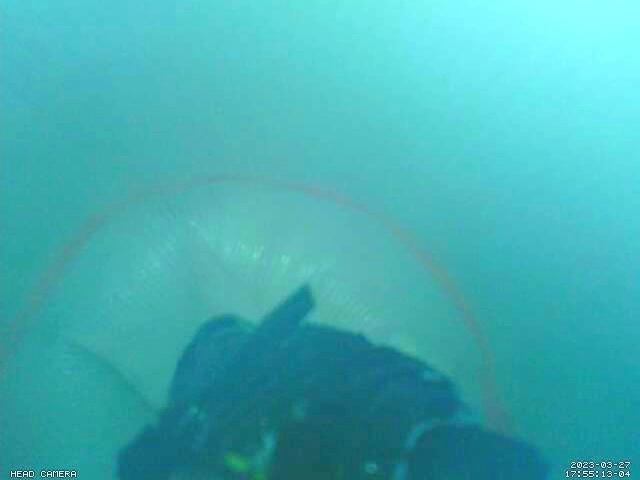head: (0, 174, 512, 438)
